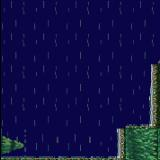Interaction: (0, 143, 108, 160), (142, 56, 160, 132), (109, 131, 127, 160), (110, 116, 142, 132)
Slow: (0, 0, 160, 62), (0, 62, 147, 123), (0, 123, 115, 154)
